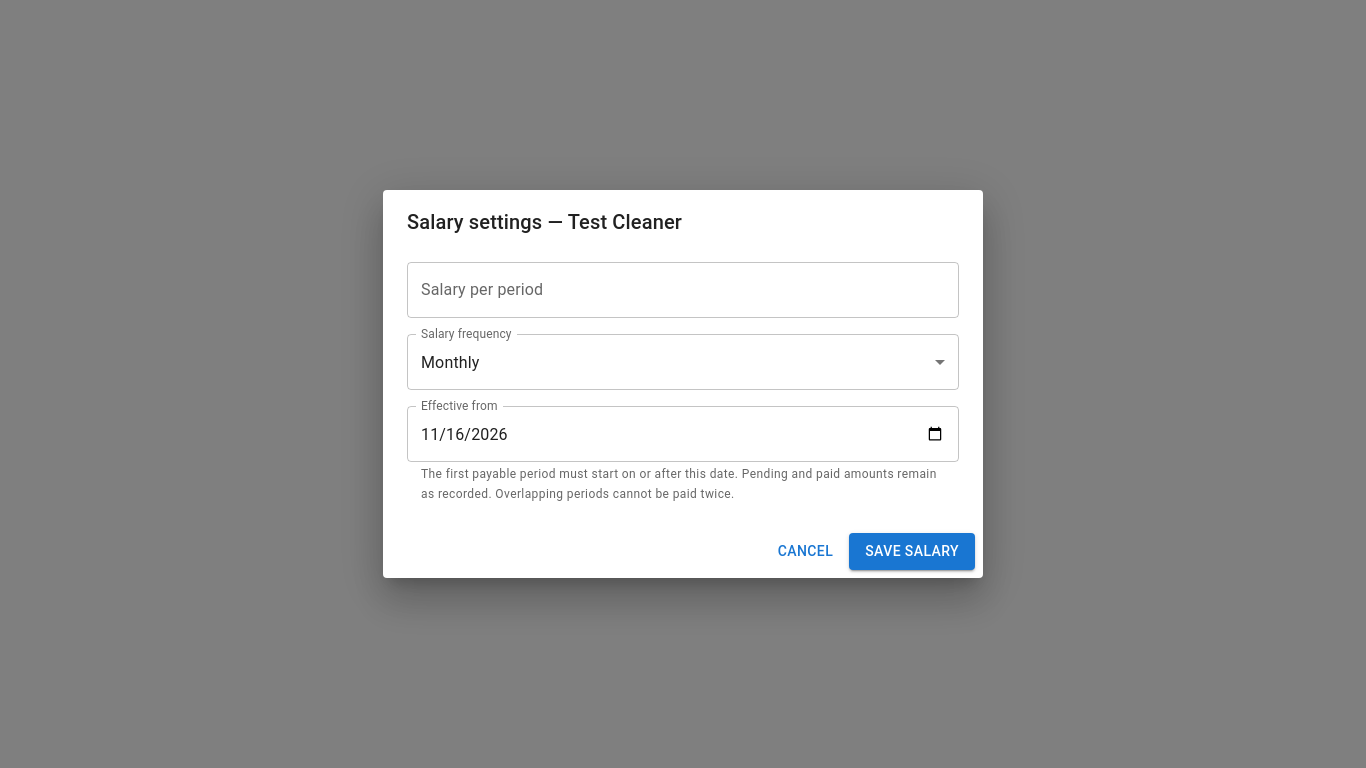
Test: validates fixed salary amounts and restricts salaries to weekly or monthly
Later steps or results of the test are not shown.
Click the button "Save salary" at (912, 551), box [849, 533, 975, 570]
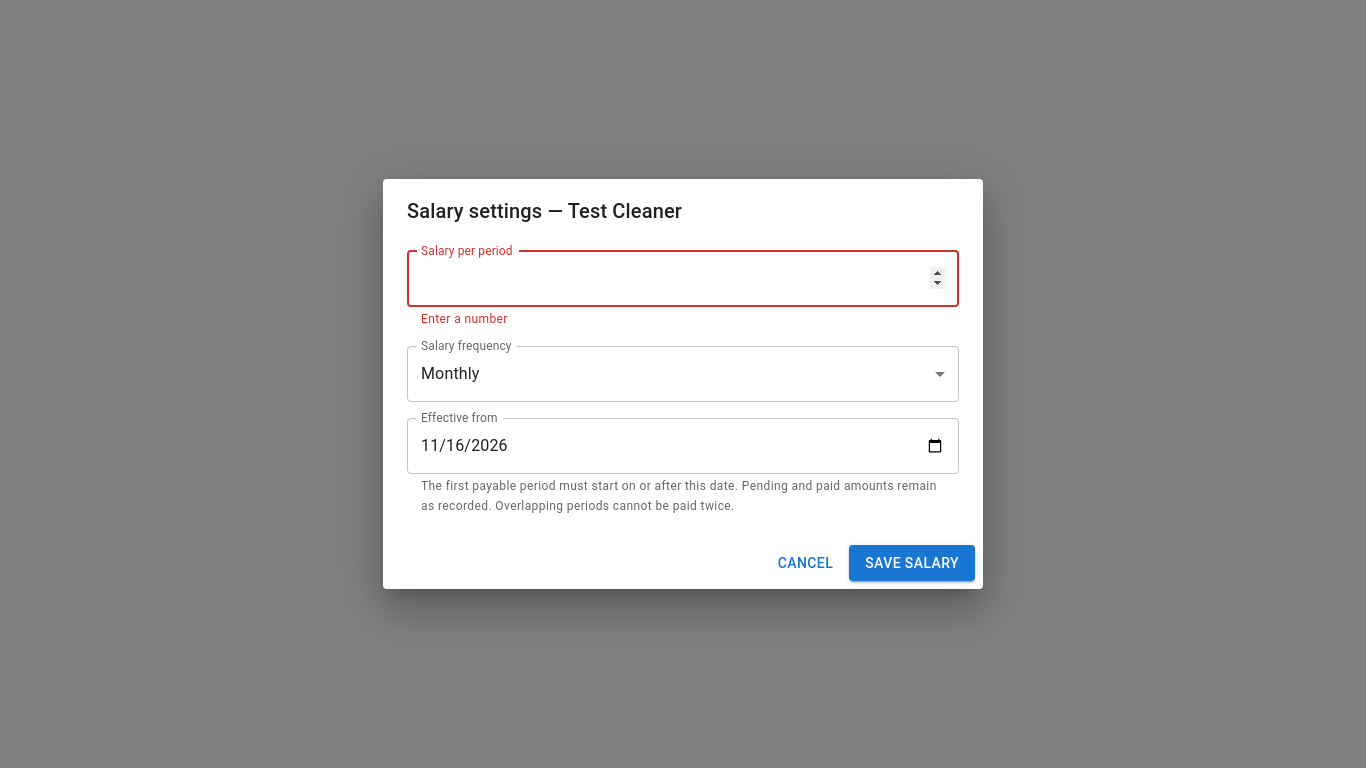
Expected: the text "Enter a number" is shown, [421, 312, 508, 326]
Press the mouse on the dropdown named "Salary frequency" at (450, 374), box [421, 364, 480, 383]
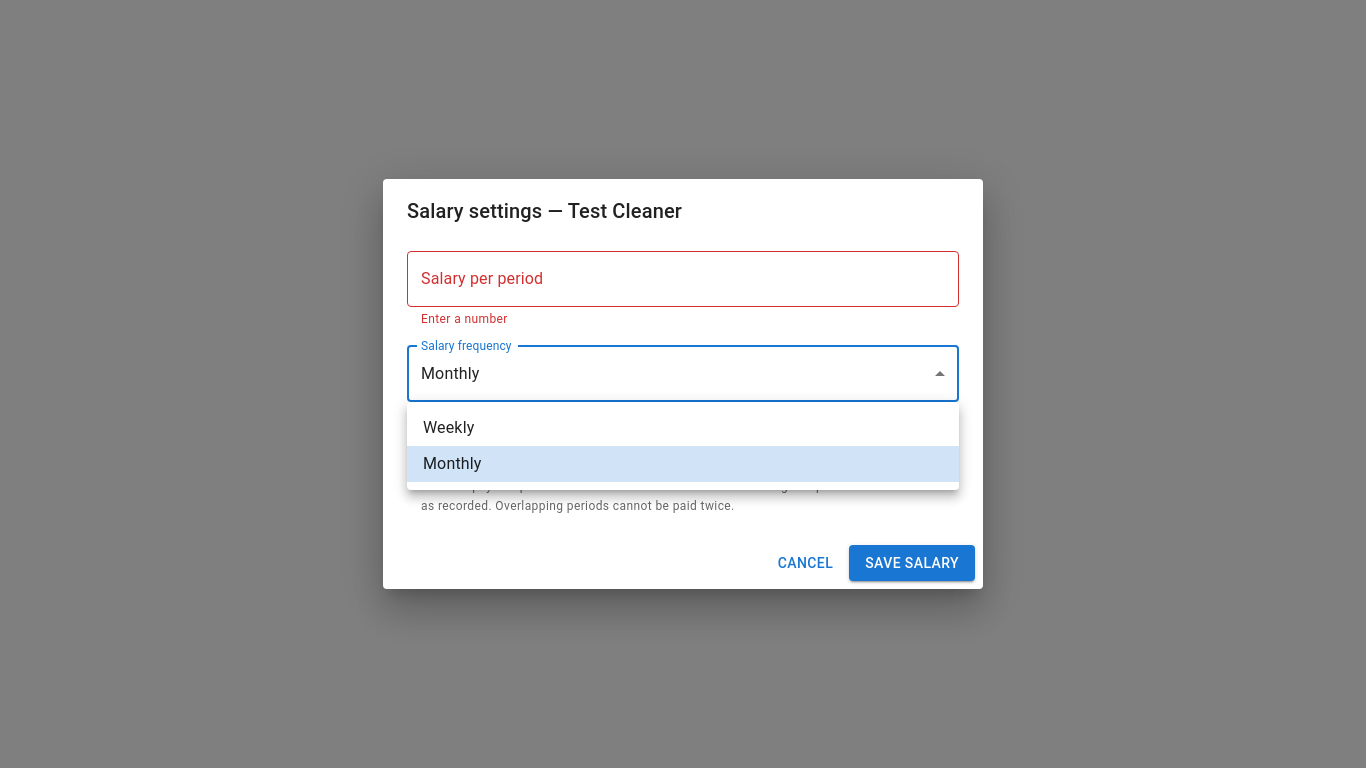
Expected: the option "Weekly" is shown, [423, 418, 474, 437]
